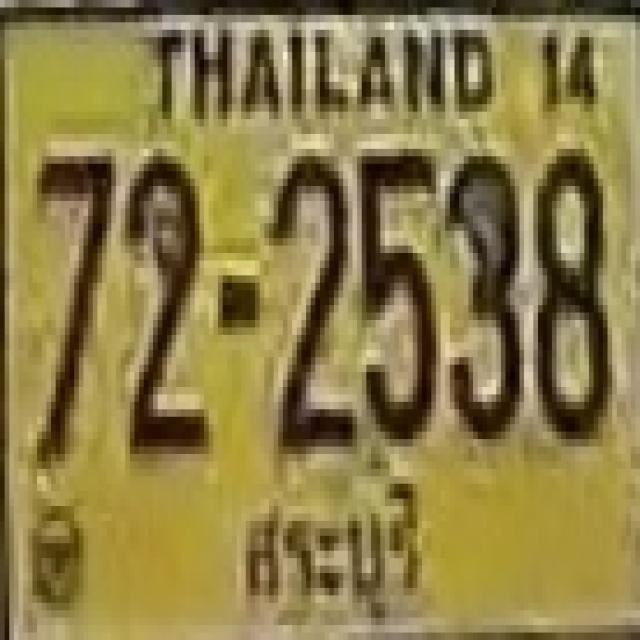2: (271, 149, 350, 446), (123, 153, 202, 450)
3: (443, 152, 517, 436)
5: (354, 141, 434, 439)
7: (32, 149, 112, 454), (32, 148, 112, 364)
8: (534, 142, 608, 432)
SRI: (235, 483, 434, 619)
